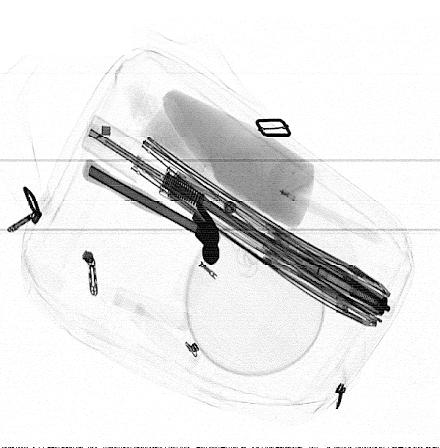Hammer: (82, 159, 220, 266)
